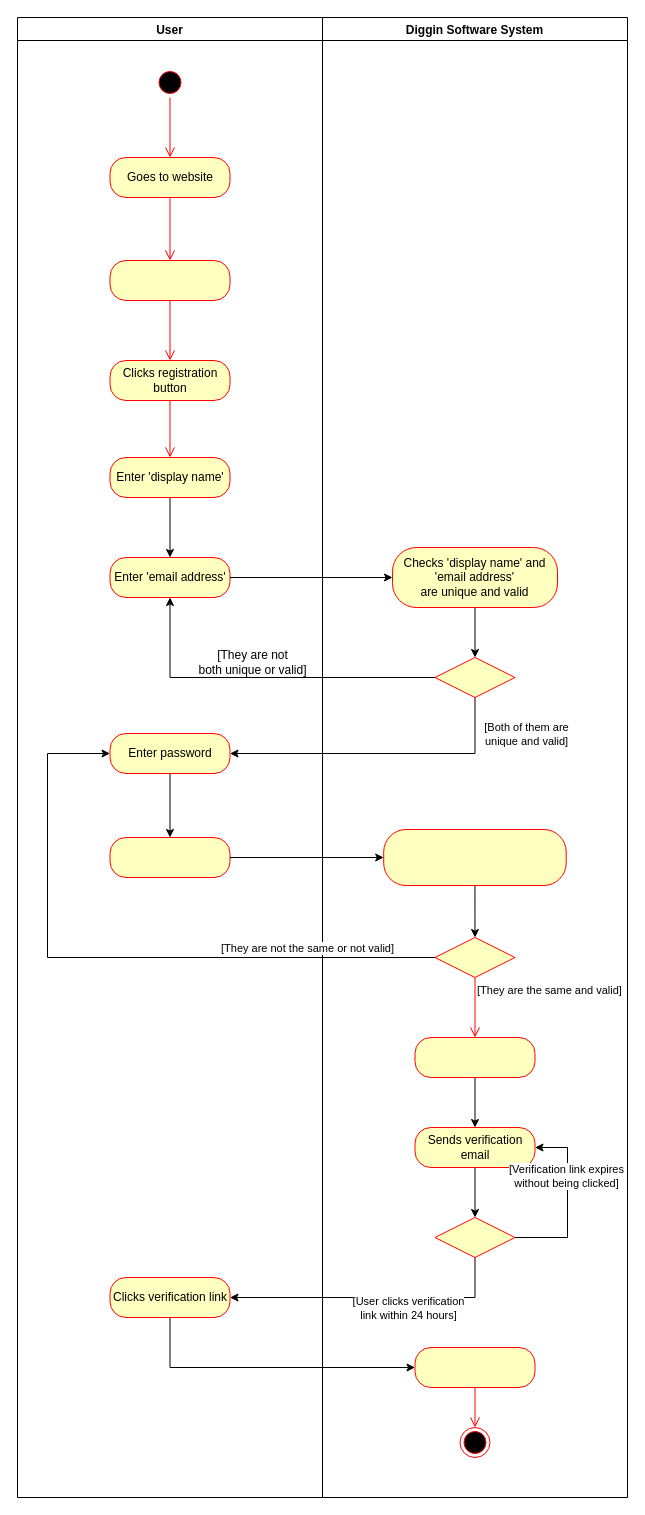
The diagram is 645 pixels wide and 1515 high, and some of its shapes have lost their labels. Here are the shapes that lost their labels. From the top down, the centre of each, then its label:
point 169,280: Clicks login button
point 169,857: Confirm password
point 474,857: Checks both the 'password' and confirmation are the same and valid
point 474,1057: Creates new entry in database with
point 474,1367: Marks user as verified
